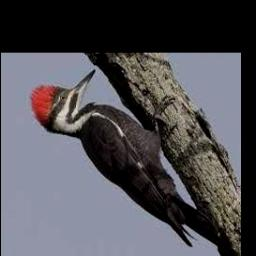Woodpecker: (30, 69, 239, 256)
